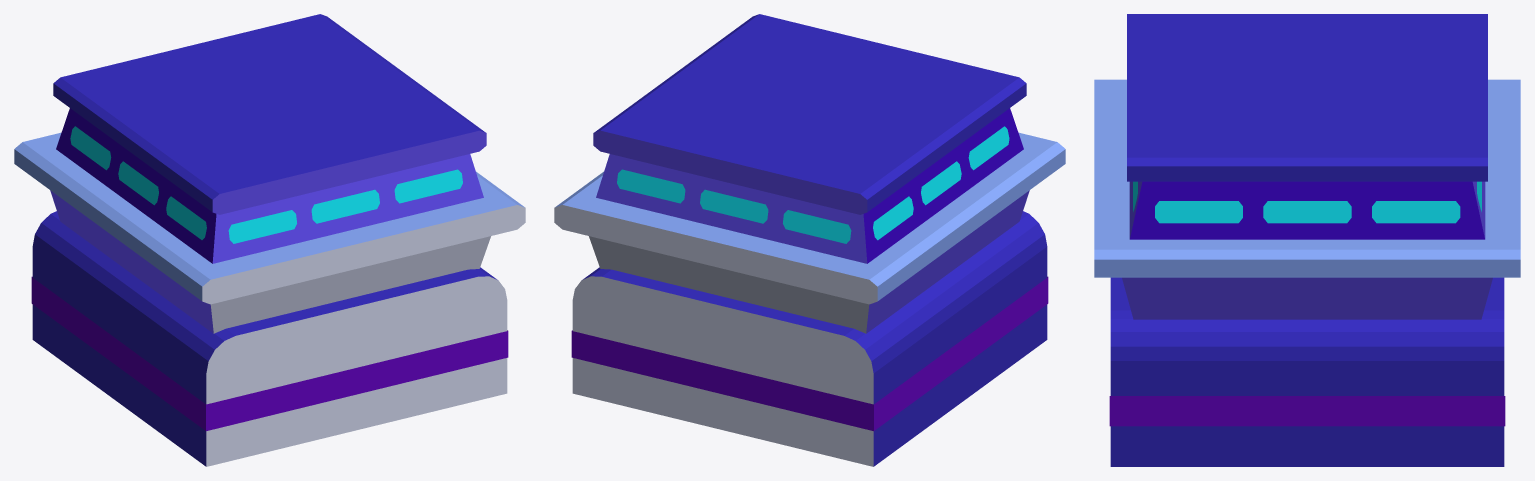
Rendered from Building_049_b.fbx.
3 views of the same model, side by side, from view 1: azimuth 30°, elevation 25°; view 2: azimuth 150°, elevation 25°; view 3: azimuth 270°, elevation 25° (orthographic). The views are drawn at different scales.
Parts seen in each view (by area): view 1: Building_049_b; view 2: Building_049_b; view 3: Building_049_b.
Part boxes in pixels (box(x1,y1,x2,y2)): Building_049_b: box(14, 14, 525, 466); Building_049_b: box(554, 14, 1065, 466); Building_049_b: box(1094, 14, 1520, 466).
Size of the model in its own units: 8.31 by 6.46 by 8.38.
